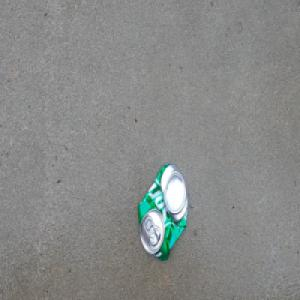SodaCan: (136, 161, 189, 263)
